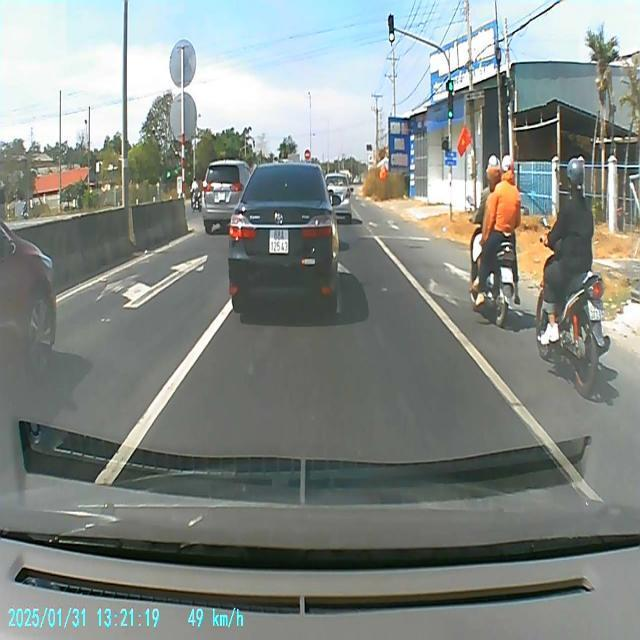102-cam-di-nguoc-chieu: (304, 148, 311, 161)
